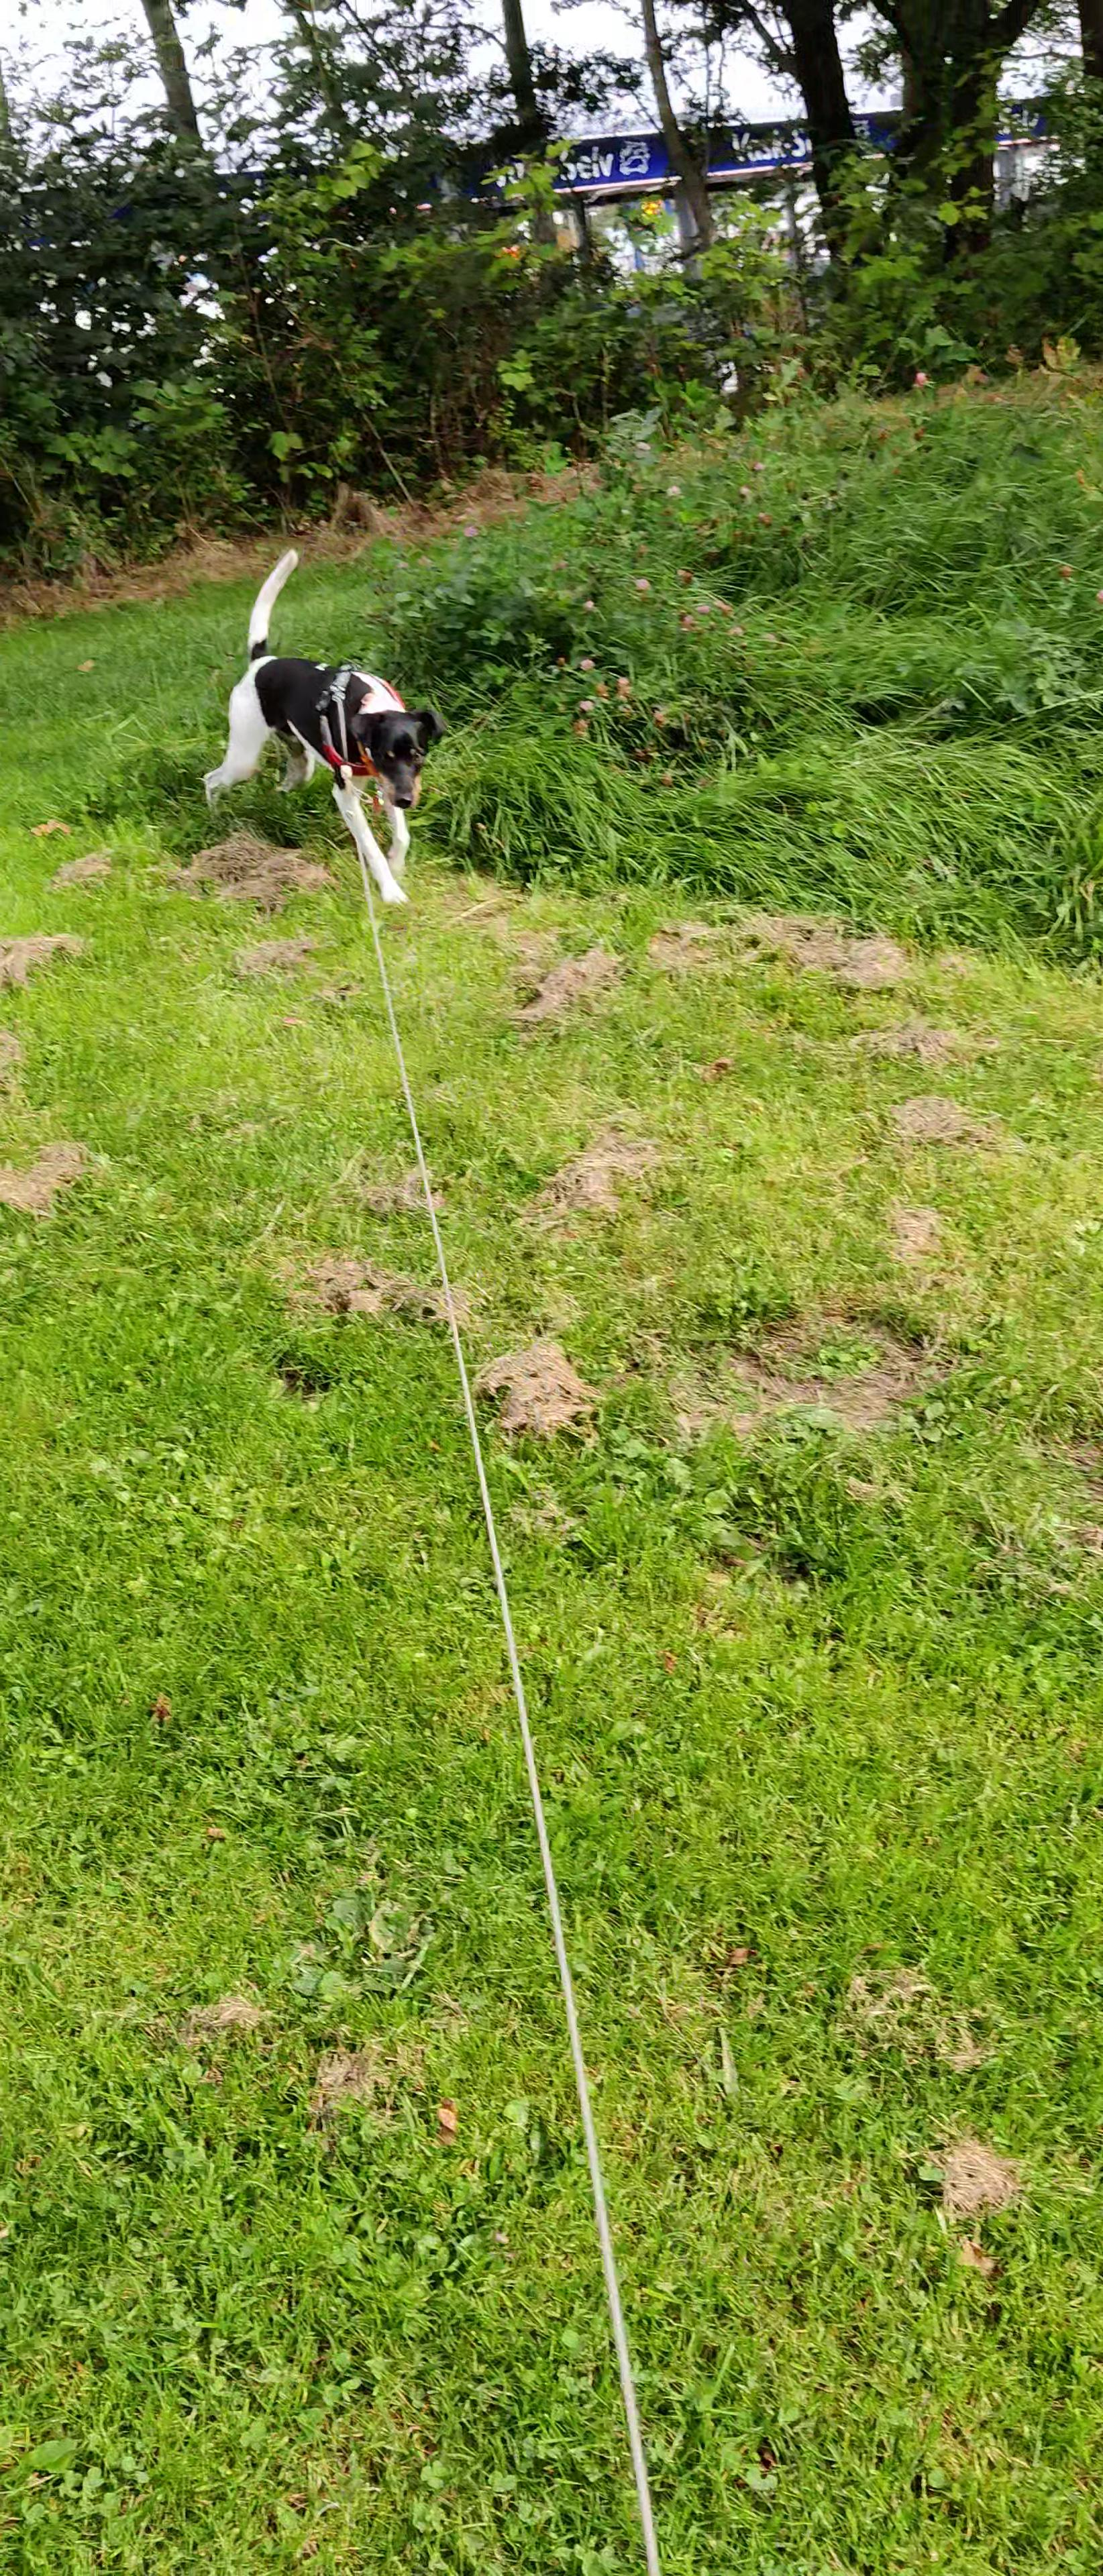Dog: (191, 534, 459, 915)
